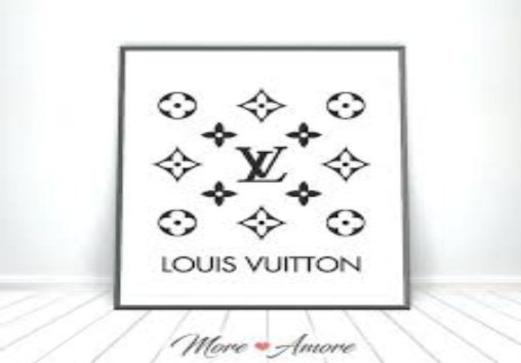LOUIS-VUITTON: (240, 135, 287, 197)
